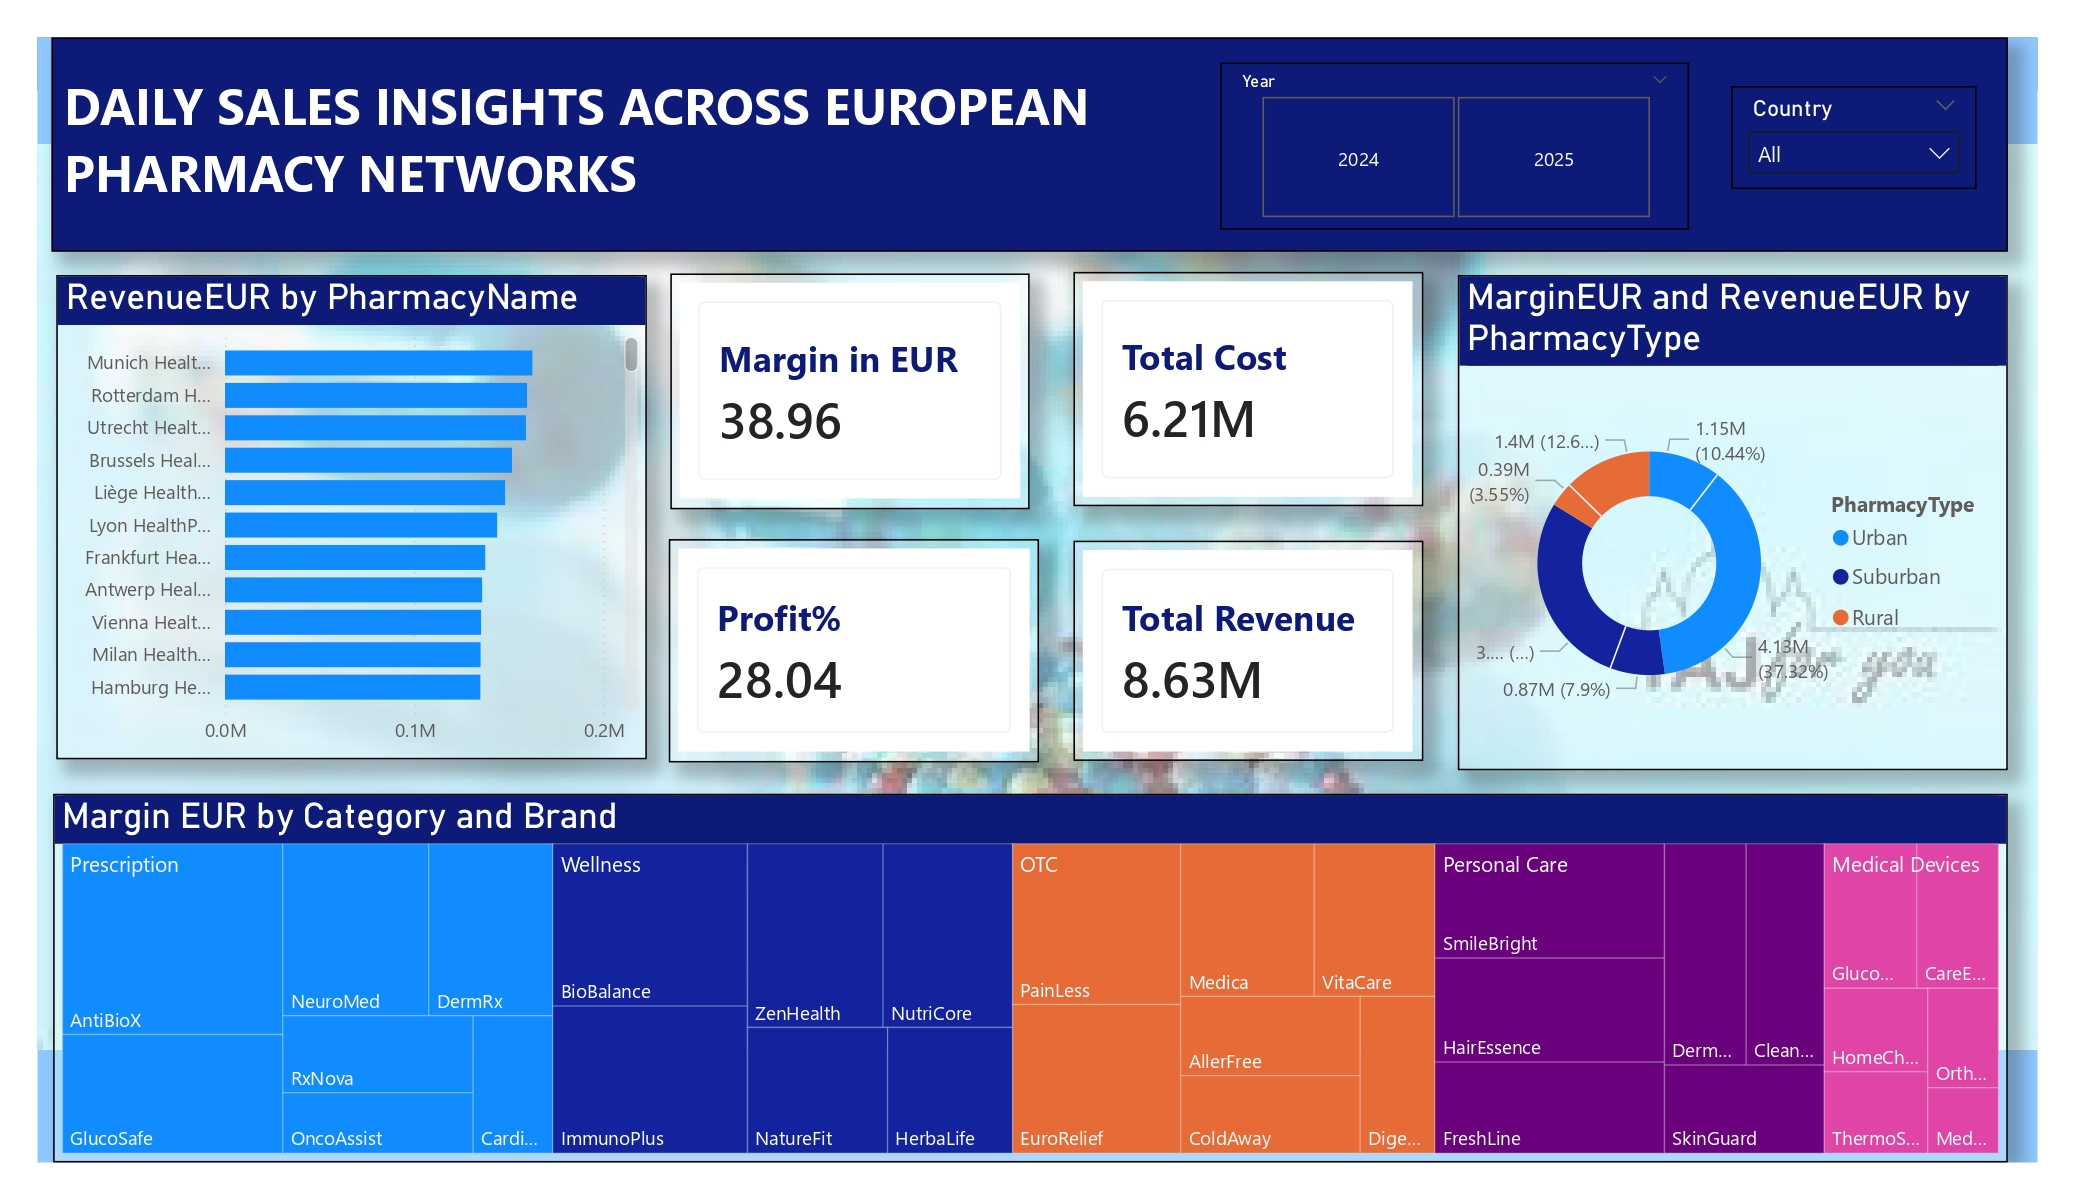

What the dashboard file says about the page in this screenshot:
{"tool":"powerbi","page":{"name":"KPI","canvas":[1280,720],"ordinal":0},"visuals":[{"type":"cardVisual","fields":{"Data":["Sum(T_FactSales.RevenueEUR)"]},"box":[663.2,321.8,223.5,141.2],"z":0},{"type":"cardVisual","fields":{"Data":["Avg(T_FactSales.MarginEUR)"]},"box":[404.8,150.9,230,150.9],"z":1000},{"type":"cardVisual","fields":{"Data":["Sum(T_FactSales.CostEUR)"]},"box":[663.2,150.2,223.5,150.2],"z":2000},{"type":"clusteredBarChart","title":"RevenueEUR by PharmacyName","fields":{"Category":["DimPharmacy.PharmacyName"],"Y":["Sum(T_FactSales.RevenueEUR)"]},"box":[11.7,151.8,378.4,310.7],"z":3000},{"type":"donutChart","title":"MarginEUR and RevenueEUR by PharmacyType","fields":{"Category":["DimPharmacy.PharmacyType"],"Y":["Sum(FactSales.MarginEUR)","Sum(FactSales.RevenueEUR)"]},"box":[908.6,151.8,352.7,317.7],"z":4000},{"type":"treemap","title":"Margin EUR by Category and Brand","fields":{"Group":["DimProduct.Category"],"Values":["Sum(FactSales.MarginEUR)"],"Details":["DimProduct.Brand"]},"box":[10.5,484,1250.3,236],"z":5000},{"type":"textbox","box":[8.8,0,1251.9,137],"z":7000},{"type":"textbox","box":[12,16.4,732,95.6],"z":8000},{"type":"slicer","fields":{"Values":["DimDate.Year"]},"box":[756.8,15.8,300.2,107.1],"z":9000},{"type":"cardVisual","fields":{"Data":["FactSales.Profit%"]},"box":[403.8,321.3,237,142.2],"z":9500},{"type":"slicer","fields":{"Values":["T_DimPharmacy.Country"]},"box":[1084.5,31.4,156.8,65.7],"z":10000}]}

Visuals, with their boxes in screenshot pixels (x1, y1, x2, y2):
cardVisual - Sum(T_FactSales.RevenueEUR): (1074,540,1423,761)
cardVisual - Avg(T_FactSales.MarginEUR): (670,273,1029,509)
cardVisual - Sum(T_FactSales.CostEUR): (1074,272,1423,507)
"RevenueEUR by PharmacyName" clusteredBarChart: (56,275,647,760)
"MarginEUR and RevenueEUR by PharmacyType" donutChart: (1457,275,2008,771)
"Margin EUR by Category and Brand" treemap: (54,794,2008,1162)
textbox: (51,38,2007,252)
textbox: (56,63,1200,212)
slicer - DimDate.Year: (1220,62,1689,230)
cardVisual - FactSales.Profit%: (668,540,1039,762)
slicer - T_DimPharmacy.Country: (1732,87,1977,189)
